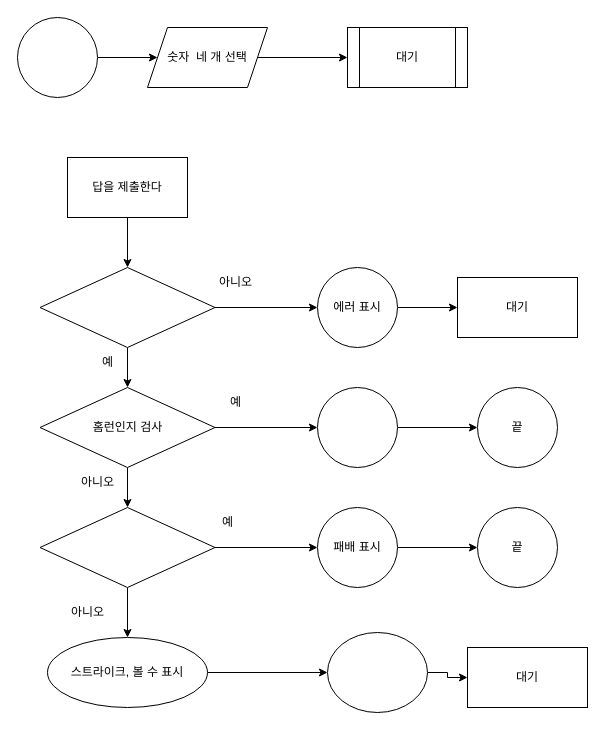
The diagram is 605 pixels wide and 730 high, and some of its shapes have lost their labels. The centre of each missing label's shape, as x and y in pixels:
10번 시도했는가?: pixel 127 547
답이 형식에 맞는가: pixel 127 307
시도횟수 1 증가: pixel 377 672
시작: pixel 57 57
홈런 표시: pixel 357 427
